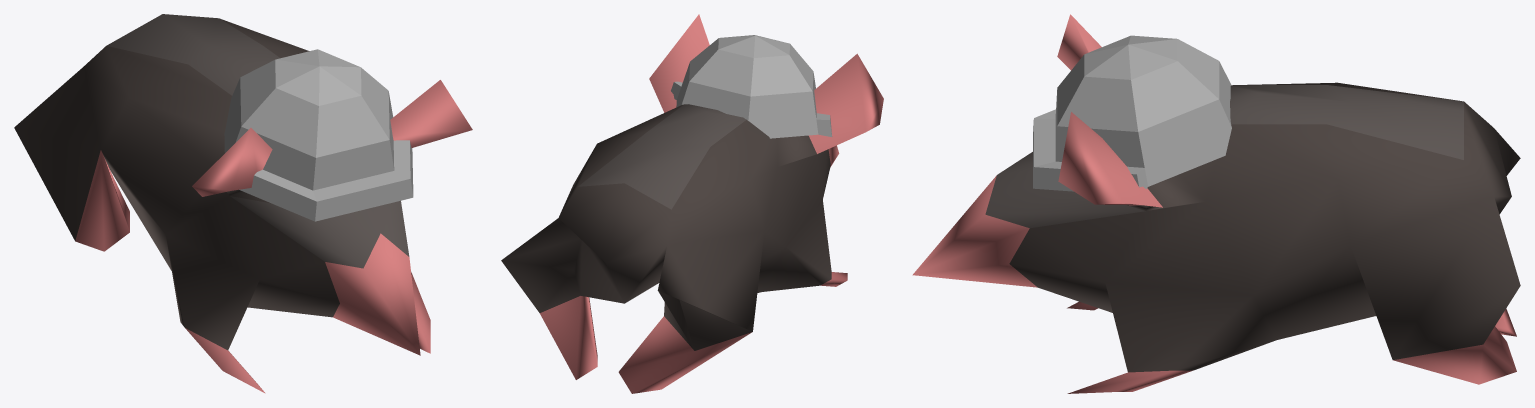
The model's file is RatBuilder_Export.fbx.
3 views of the same model, side by side, from view 1: azimuth 30°, elevation 25°; view 2: azimuth 150°, elevation 25°; view 3: azimuth 270°, elevation 25° (orthographic). The views are drawn at different scales.
Visible parts, largest first — view 1: RatBase, pSphere1; view 2: RatBase, pSphere1; view 3: RatBase, pSphere1.
Part boxes in pixels (x1=…): RatBase: x1=14, y1=14, x2=472, y2=393; pSphere1: x1=224, y1=49, x2=413, y2=221; RatBase: x1=501, y1=14, x2=883, y2=393; pSphere1: x1=671, y1=35, x2=832, y2=138; RatBase: x1=912, y1=14, x2=1520, y2=393; pSphere1: x1=1033, y1=35, x2=1231, y2=191.
Size of the model in its own units: 1.41 by 1.48 by 2.61.
